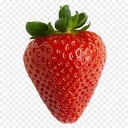strawberry: (23, 5, 108, 125)
